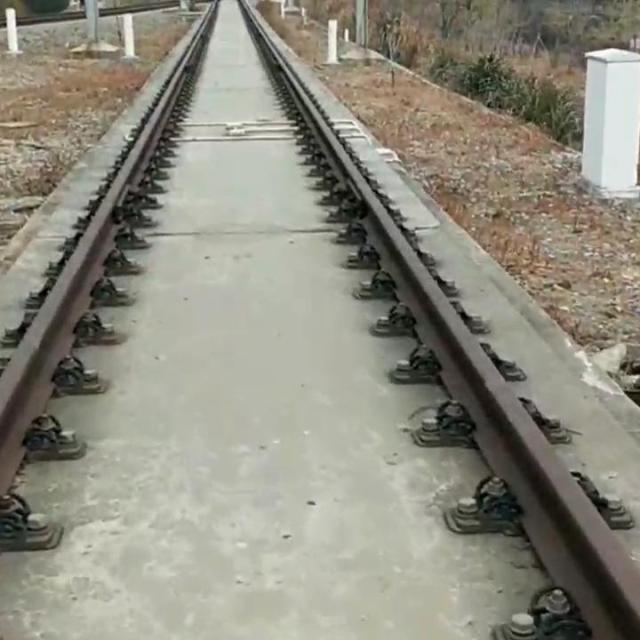rail: (243, 4, 640, 625), (0, 2, 216, 495)
